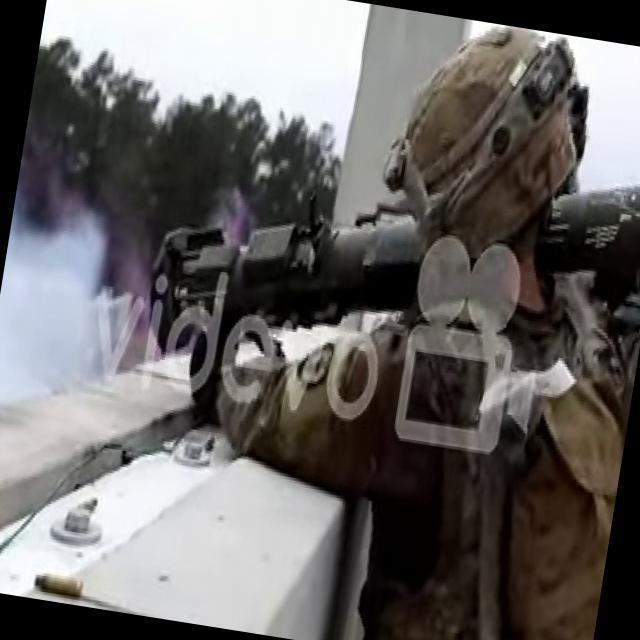rocket: (140, 117, 640, 431)
